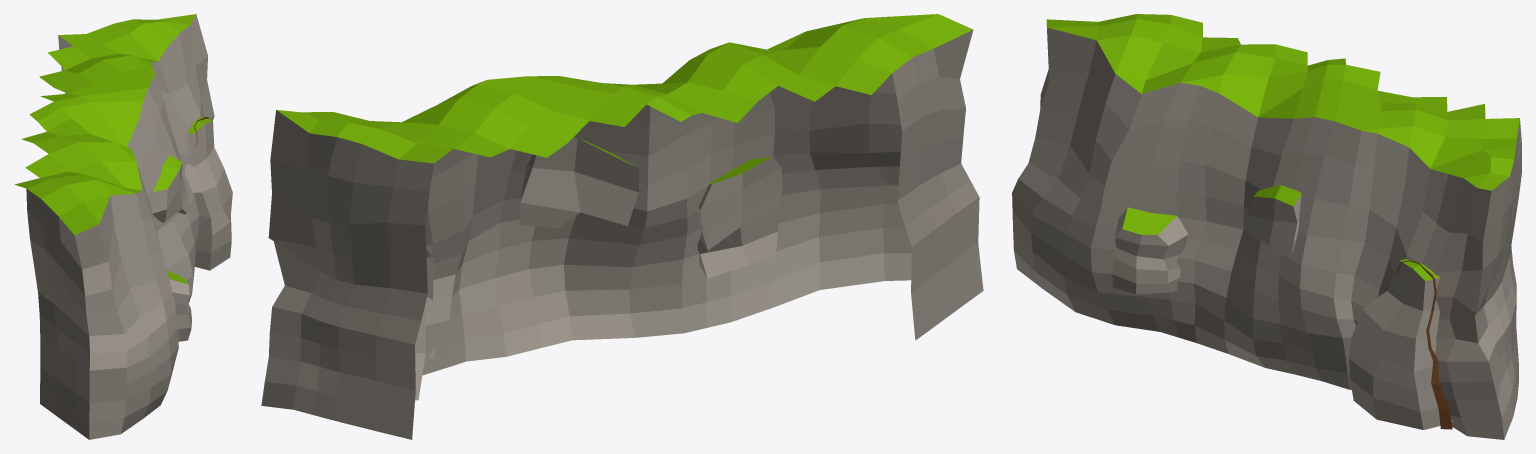
The model's file is Cliff 003.fbx.
3 views of the same model, side by side, from view 1: azimuth 30°, elevation 25°; view 2: azimuth 150°, elevation 25°; view 3: azimuth 270°, elevation 25° (orthographic). The views are drawn at different scales.
Visible parts, largest first — view 1: Cliff 003; view 2: Cliff 003; view 3: Cliff 003.
Part boxes in pixels (bbox=[...]): Cliff 003: bbox=[14, 14, 232, 439]; Cliff 003: bbox=[261, 14, 983, 439]; Cliff 003: bbox=[1012, 14, 1521, 439].
Bounding box in the file's own units: 809 × 534 × 944.
